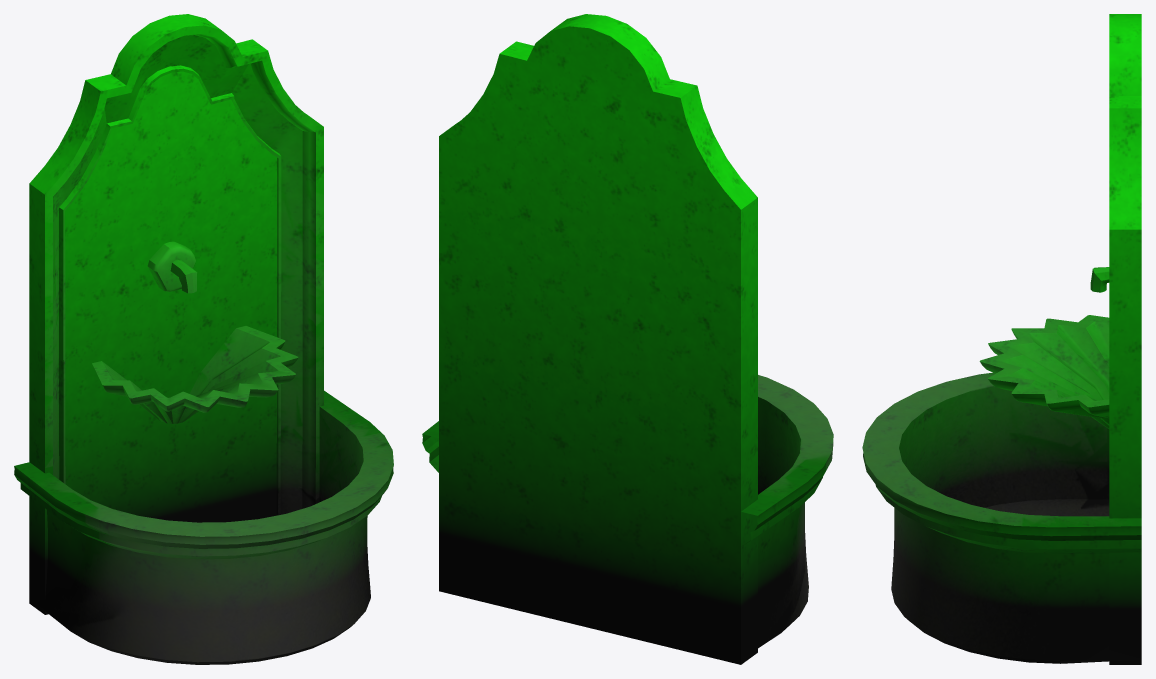
File: Fountain.fbx
The picture shows the model from 3 angles, left to right: view 1: azimuth 30°, elevation 25°; view 2: azimuth 150°, elevation 25°; view 3: azimuth 270°, elevation 25°; orthographic projection. The views are drawn at different scales.
Parts seen in each view (by area): view 1: Fountain; view 2: Fountain; view 3: Fountain.
Boxes of the visible parts, bbox=[...] form: Fountain: bbox=[14, 14, 393, 664]; Fountain: bbox=[422, 14, 833, 664]; Fountain: bbox=[862, 14, 1141, 664].
Bounding box in the file's own units: 93 × 157 × 69.05.
